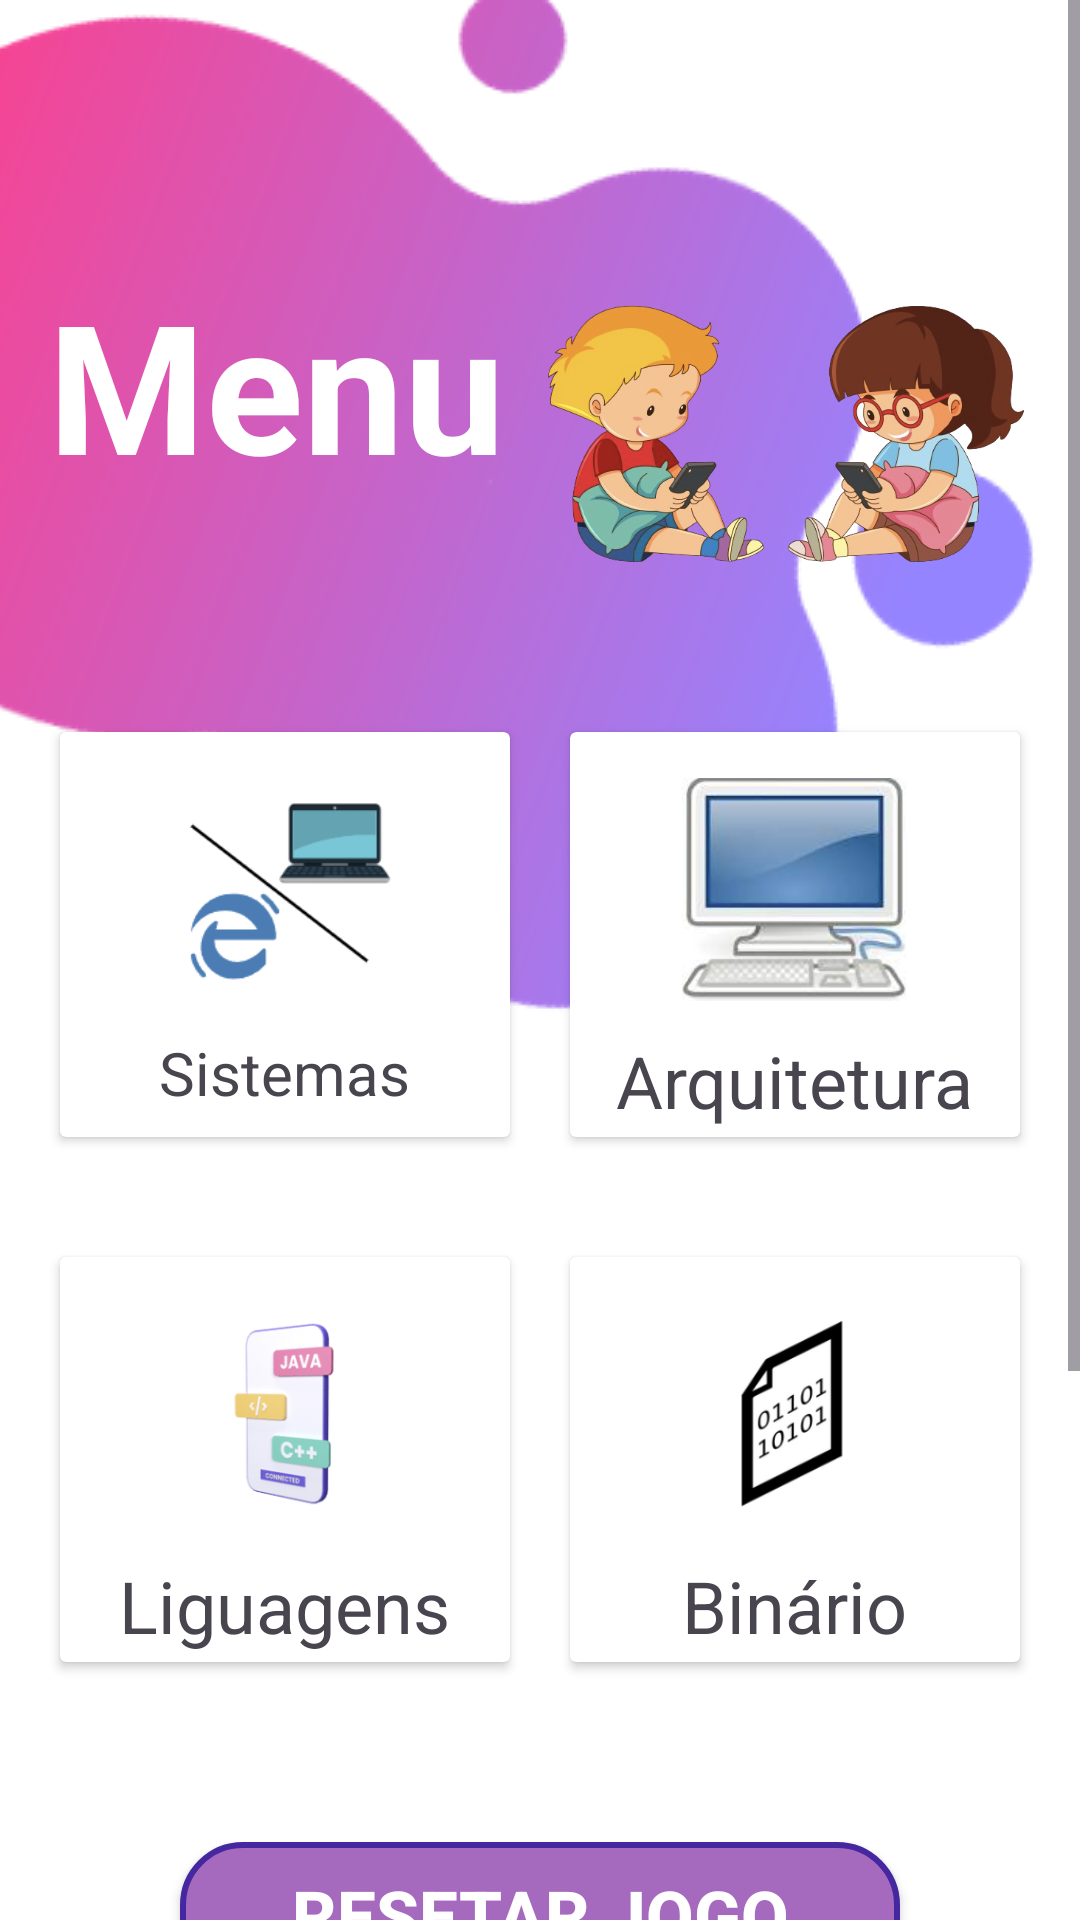

Icon click points for this 1080px x 1920px phone screenshot, format (x=x, y=y):
binario: (x=792, y=1413)
computer: (x=794, y=888)
linguagens: (x=284, y=1414)
